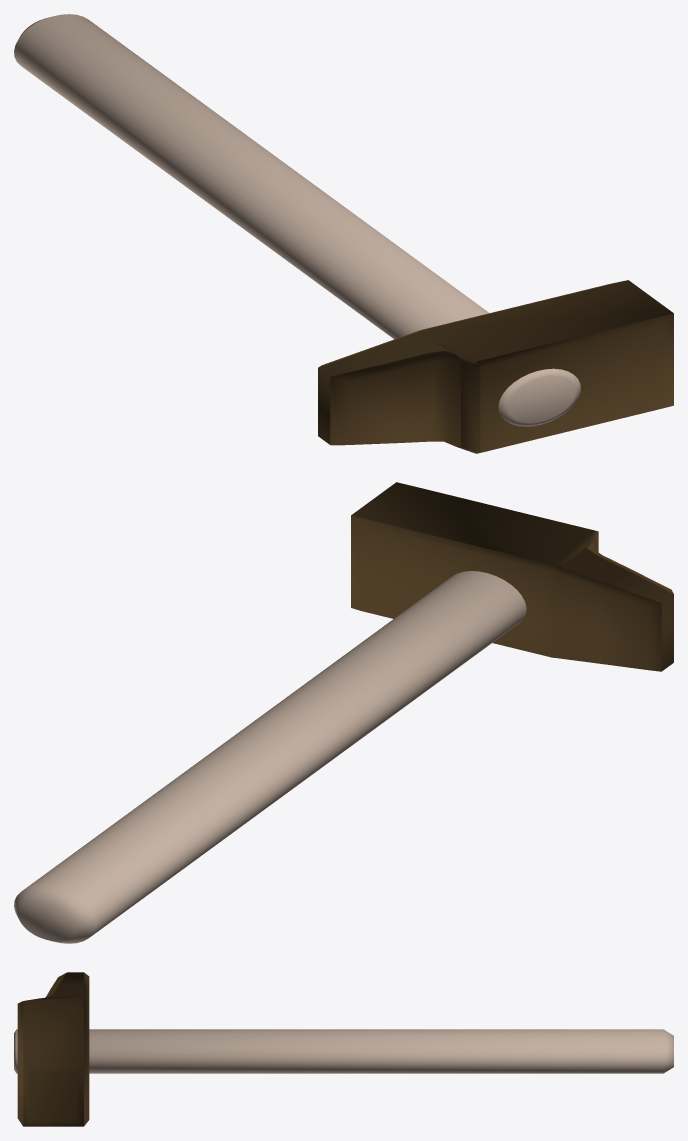
The model's file is Hammer.fbx.
3 renders of one model, top to bottom at view 1: azimuth 30°, elevation 25°; view 2: azimuth 150°, elevation 25°; view 3: azimuth 270°, elevation 25°, orthographic. The views are drawn at different scales.
Parts seen in each view (by area): view 1: Hammer; view 2: Hammer; view 3: Hammer.
Boxes of the visible parts, <box> form: Hammer: <box>14,14,673,453</box>; Hammer: <box>14,482,673,943</box>; Hammer: <box>14,972,673,1126</box>.
Size of the model in its own units: 609 by 171 by 1658.
